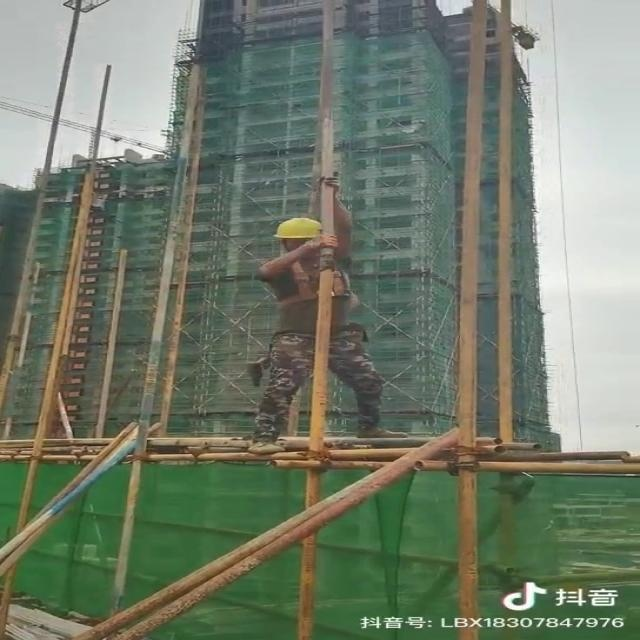Arnes_seguridad: (257, 257, 357, 318)
